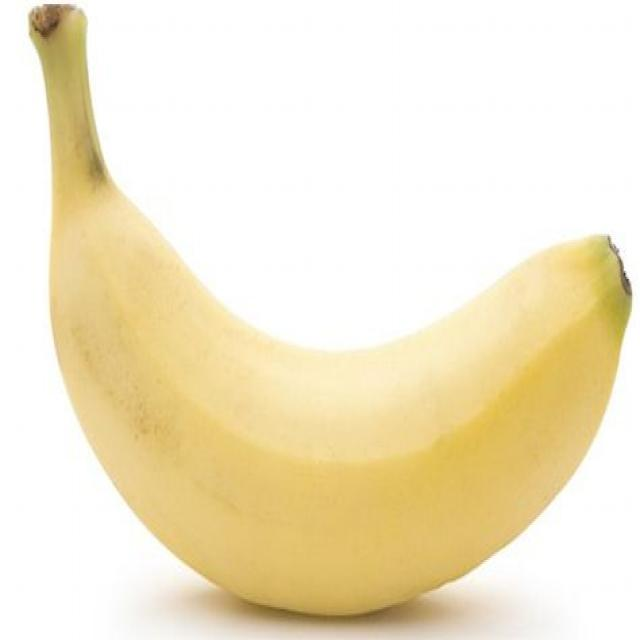Banana: (28, 4, 631, 618)
